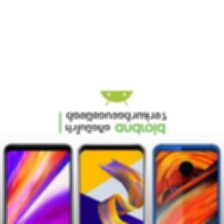phone: (1, 140, 76, 224), (150, 139, 223, 224), (75, 141, 148, 224)
